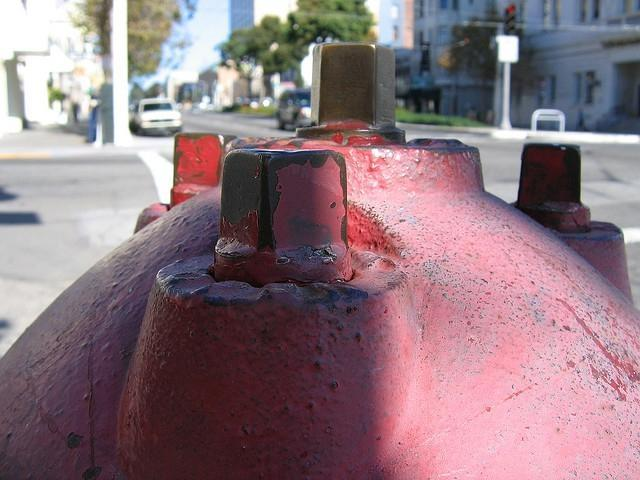car: (128, 98, 183, 135), (276, 90, 312, 130)
